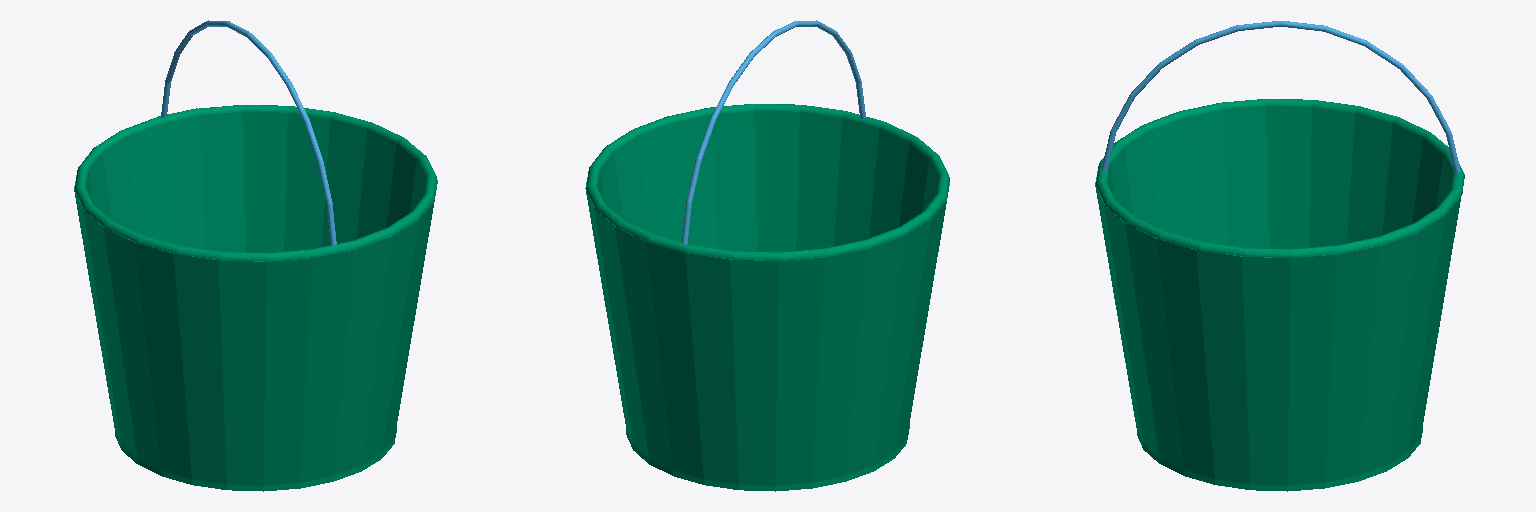
The robot description file, URDF, robot "partnet_c377cffe09ca11a57b6fd5468f603b31":
<?xml version="1.0" ?>
<robot name="partnet_c377cffe09ca11a57b6fd5468f603b31">
	<link name="base"/>
	<link name="link_0">
		<visual name="handle-1">
			<origin xyz="1.1415310340218707e-06 -0.4779415863575636 -0.016658861056517284"/>
			<geometry>
				<mesh filename="textured_objs/original-3.obj"/>
			</geometry>
		</visual>
		<collision>
			<origin xyz="1.1415310340218707e-06 -0.4779415863575636 -0.016658861056517284"/>
			<geometry>
				<mesh filename="textured_objs/original-3.obj"/>
			</geometry>
		</collision>
	</link>
	<joint name="joint_0" type="revolute">
		<origin xyz="-1.1415310340218707e-06 0.4779415863575636 0.016658861056517284"/>
		<axis xyz="-1 0 -0.013"/>
		<child link="link_0"/>
		<parent link="link_1"/>
		<limit lower="-1.5707963267948966" upper="1.5707963267948966"/>
	</joint>
	<link name="link_1">
		<visual name="base_body-2">
			<origin xyz="0 0 0"/>
			<geometry>
				<mesh filename="textured_objs/original-2.obj"/>
			</geometry>
		</visual>
		<visual name="base_body-2">
			<origin xyz="0 0 0"/>
			<geometry>
				<mesh filename="textured_objs/original-1.obj"/>
			</geometry>
		</visual>
		<collision>
			<origin xyz="0 0 0"/>
			<geometry>
				<mesh filename="textured_objs/original-2.obj"/>
			</geometry>
		</collision>
		<collision>
			<origin xyz="0 0 0"/>
			<geometry>
				<mesh filename="textured_objs/original-1.obj"/>
			</geometry>
		</collision>
	</link>
	<joint name="joint_1" type="fixed">
		<origin rpy="1.570796326794897 0 -1.570796326794897" xyz="0 0 0"/>
		<child link="link_1"/>
		<parent link="base"/>
	</joint>
</robot>

--- Render facts (derived) ---
Views: 3 orthographic renders of the robot side by side, from view 1: azimuth 30°, elevation 25°; view 2: azimuth 150°, elevation 25°; view 3: azimuth 270°, elevation 25°.
Robot: partnet_c377cffe09ca11a57b6fd5468f603b31 — 3 links, 2 joints (1 revolute, 1 fixed); root link base; default pose: all joints at 0.
Visible links, largest first — view 1: link_1, link_0; view 2: link_1, link_0; view 3: link_1, link_0.
Boxes of the visible links, <box> form: link_1: <box>74,105,437,491</box>; link_0: <box>161,20,336,245</box>; link_1: <box>585,104,949,491</box>; link_0: <box>682,20,865,244</box>; link_1: <box>1095,99,1464,491</box>; link_0: <box>1102,21,1460,173</box>.
Size in the robot's own frame: 1.21 by 1.21 by 1.47 metres.
3 mesh visuals loaded from 3 distinct referenced files (3 OBJ).
